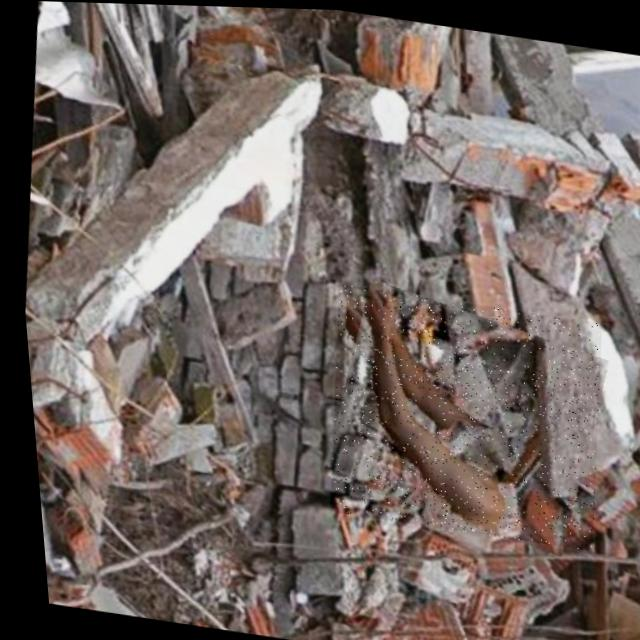Person in Rubble: (305, 281, 610, 547)
